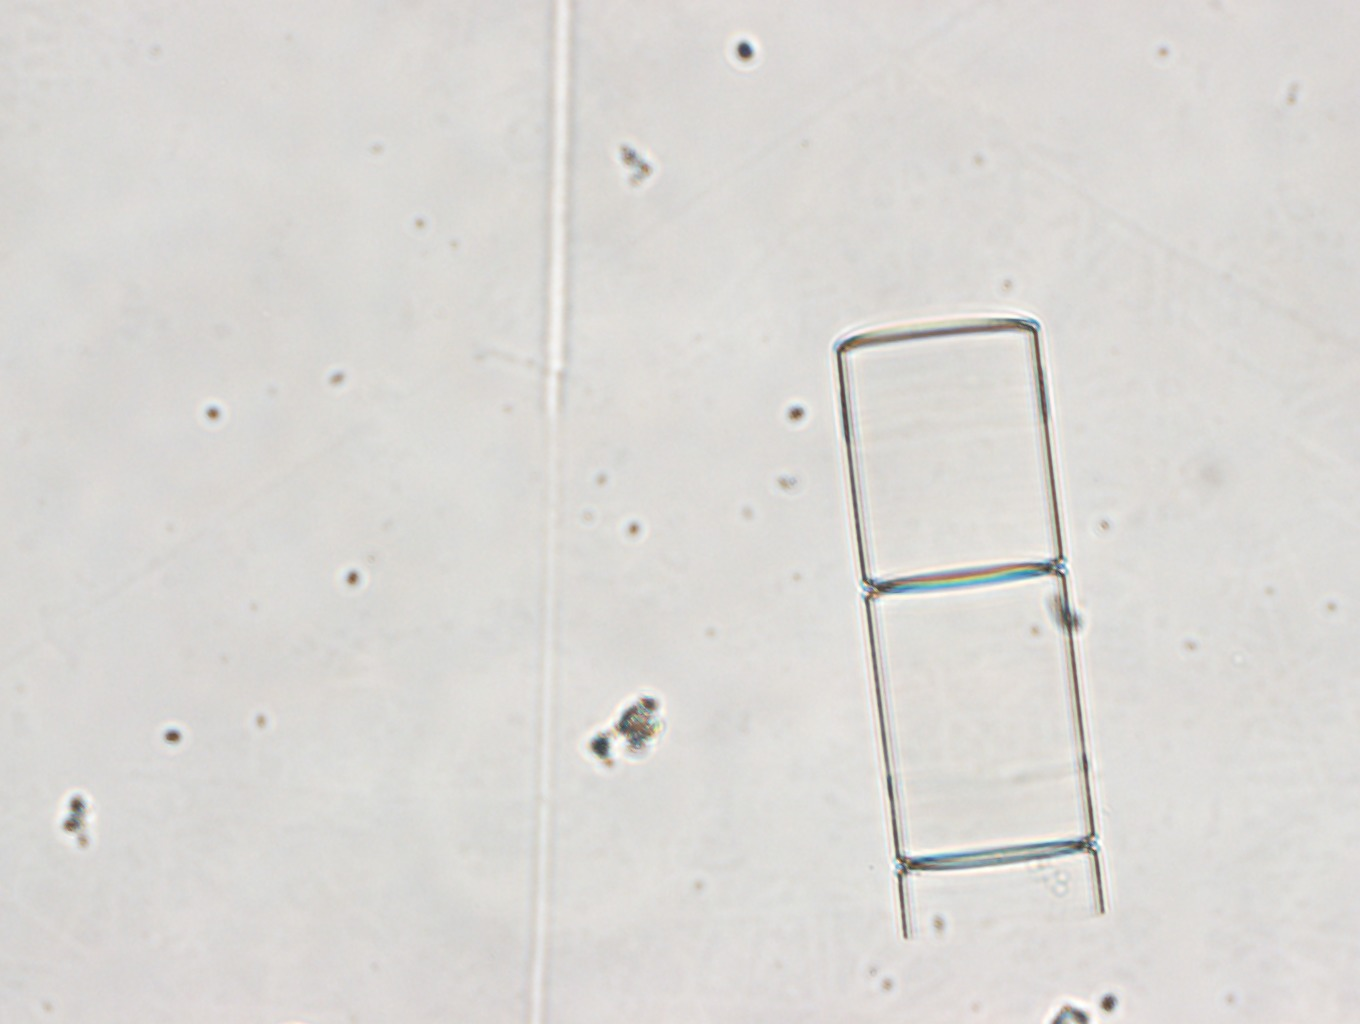guinardia flaccida: (838, 317, 1106, 944)
